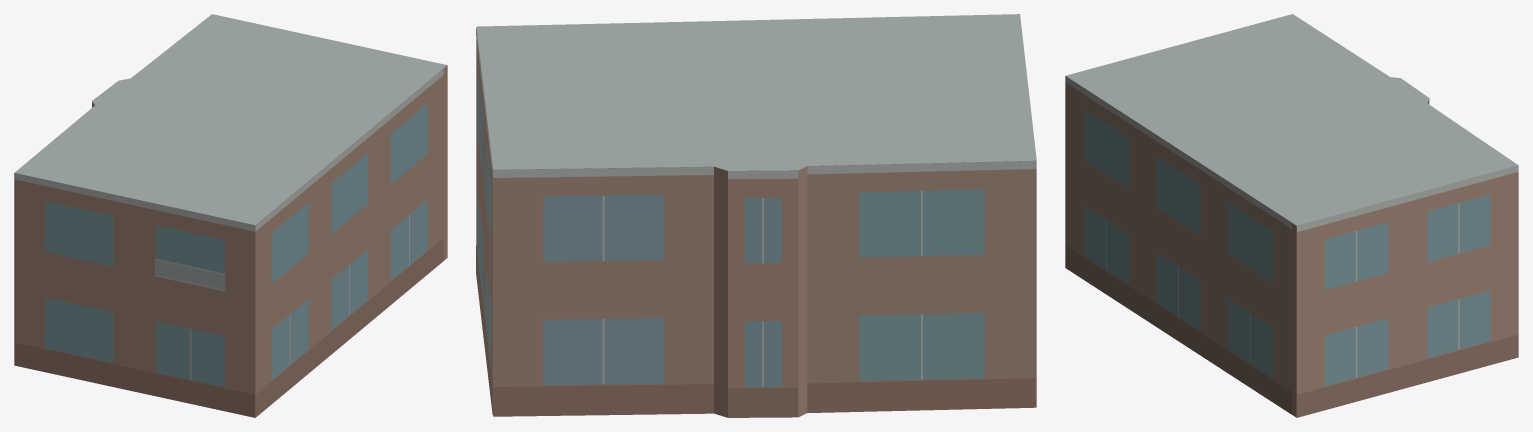
Rendered from survey-upis-32621825.glb.
3 views of the same model, side by side, from view 1: azimuth 30°, elevation 25°; view 2: azimuth 150°, elevation 25°; view 3: azimuth 270°, elevation 25° (orthographic). The views are drawn at different scales.
Visible parts, largest first — view 1: survey-upis-32621825.tmp; view 2: survey-upis-32621825.tmp; view 3: survey-upis-32621825.tmp.
Boxes of the visible parts, x1,y1,x2,y2 form: survey-upis-32621825.tmp: (14, 14, 447, 417); survey-upis-32621825.tmp: (476, 14, 1036, 417); survey-upis-32621825.tmp: (1065, 14, 1518, 417).
Size of the model in its own units: 17.03 by 7.2 by 15.4.
